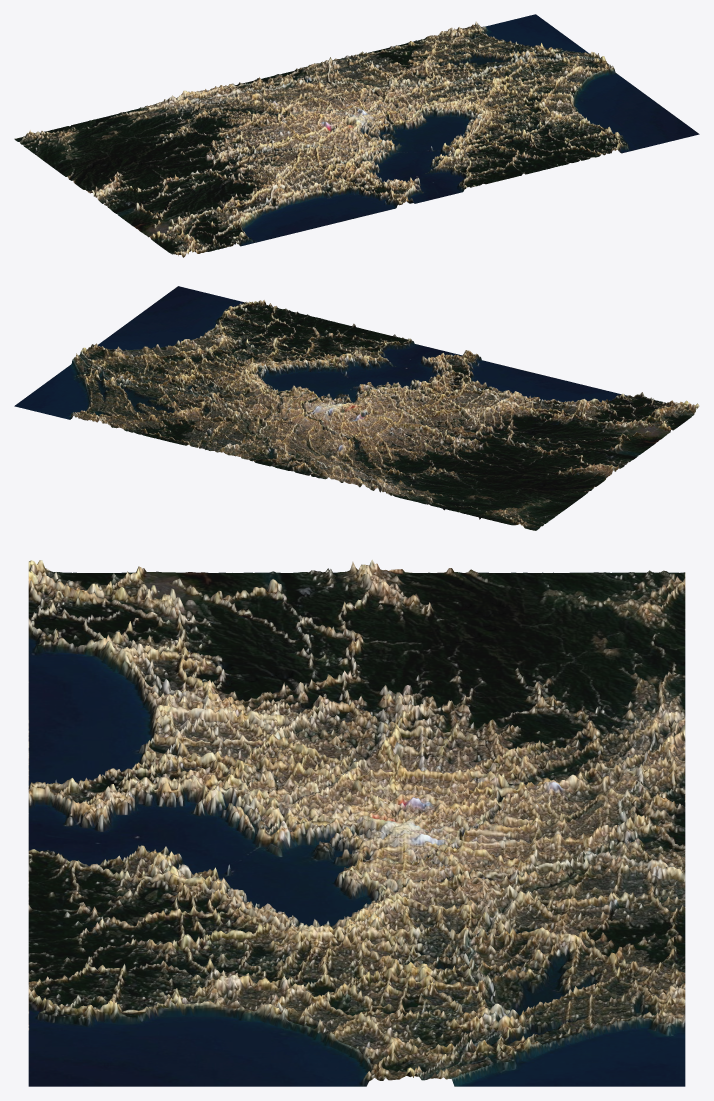
The model's file is tokyo.obj.
3 views of the same model, one above another, from view 1: azimuth 30°, elevation 25°; view 2: azimuth 150°, elevation 25°; view 3: azimuth 270°, elevation 25° (orthographic). The views are drawn at different scales.
Parts seen in each view (by area): view 1: Tokyo3D; view 2: Tokyo3D; view 3: Tokyo3D.
Part boxes in pixels (x1,y1,x2,y2): Tokyo3D: (14, 14, 699, 257); Tokyo3D: (14, 286, 699, 530); Tokyo3D: (28, 559, 685, 1086).
Bounding box in the file's own units: 3.67 × 0.0678 × 2.
Materials: 1 (1 with a texture image).
